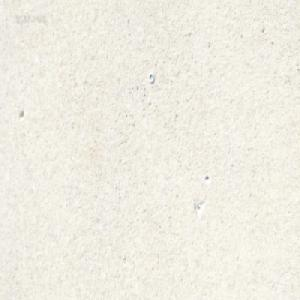Washer: (148, 70, 154, 82)
